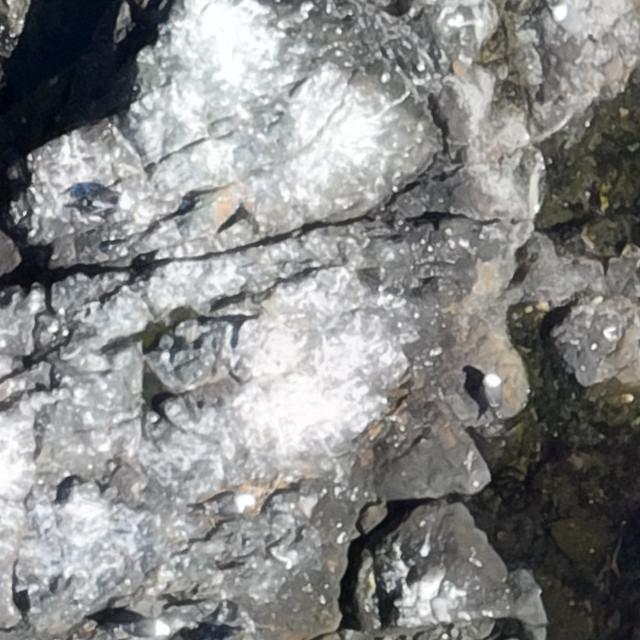umineko: (208, 496, 246, 516), (130, 618, 168, 638), (484, 376, 501, 408), (96, 191, 123, 206)
